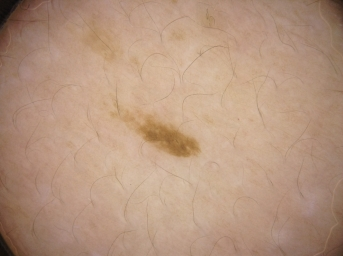seborrheic keratosis: (98, 76, 216, 176)
